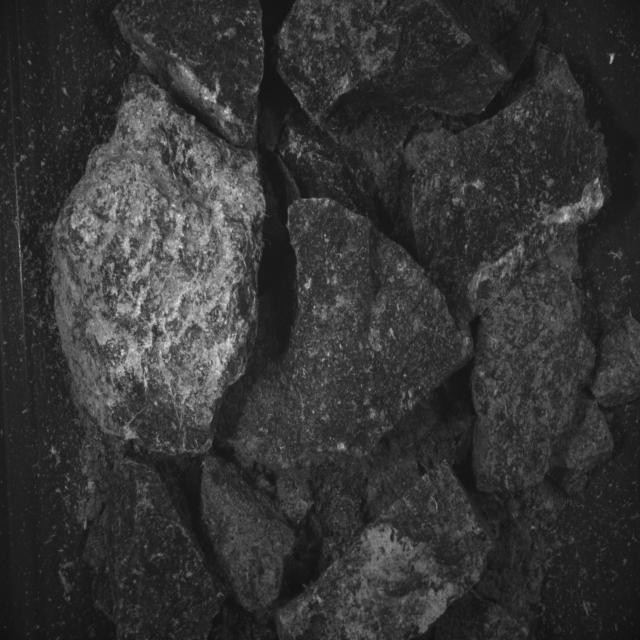Stones: (54, 3, 266, 455), (279, 1, 542, 240), (236, 199, 469, 466), (414, 50, 609, 321), (277, 463, 491, 640), (81, 428, 225, 640), (472, 270, 596, 493), (202, 457, 296, 612), (279, 113, 377, 219)
